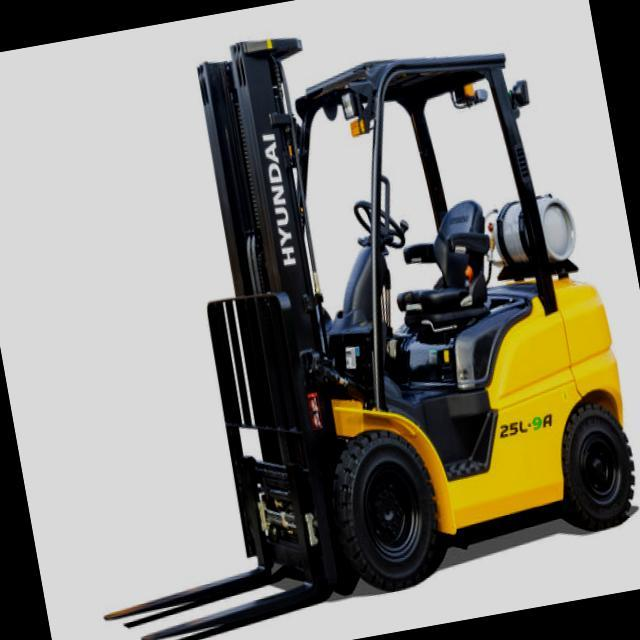forklift: (153, 20, 640, 637)
